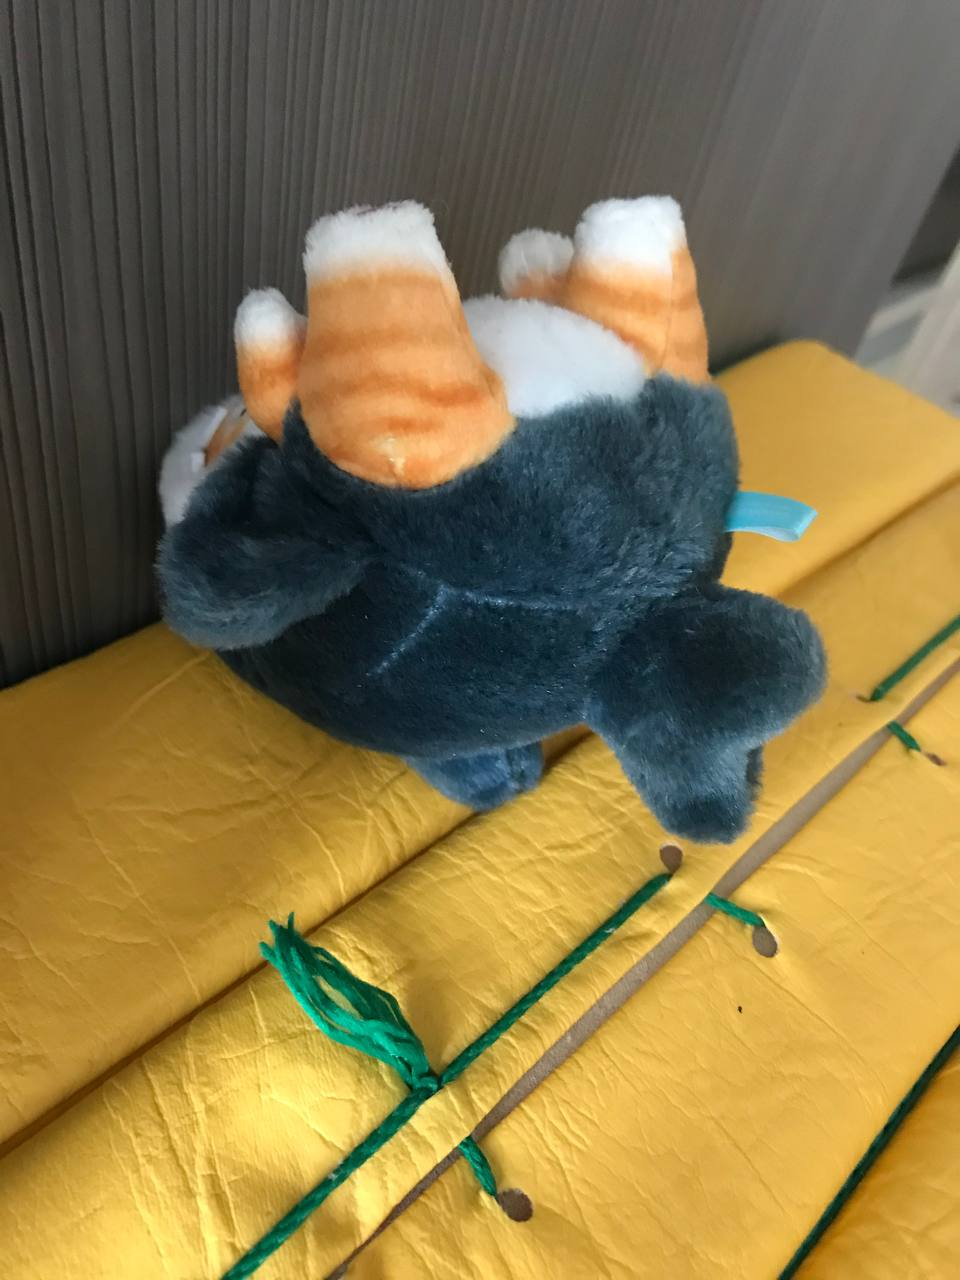cat_shark: (153, 190, 833, 843)
